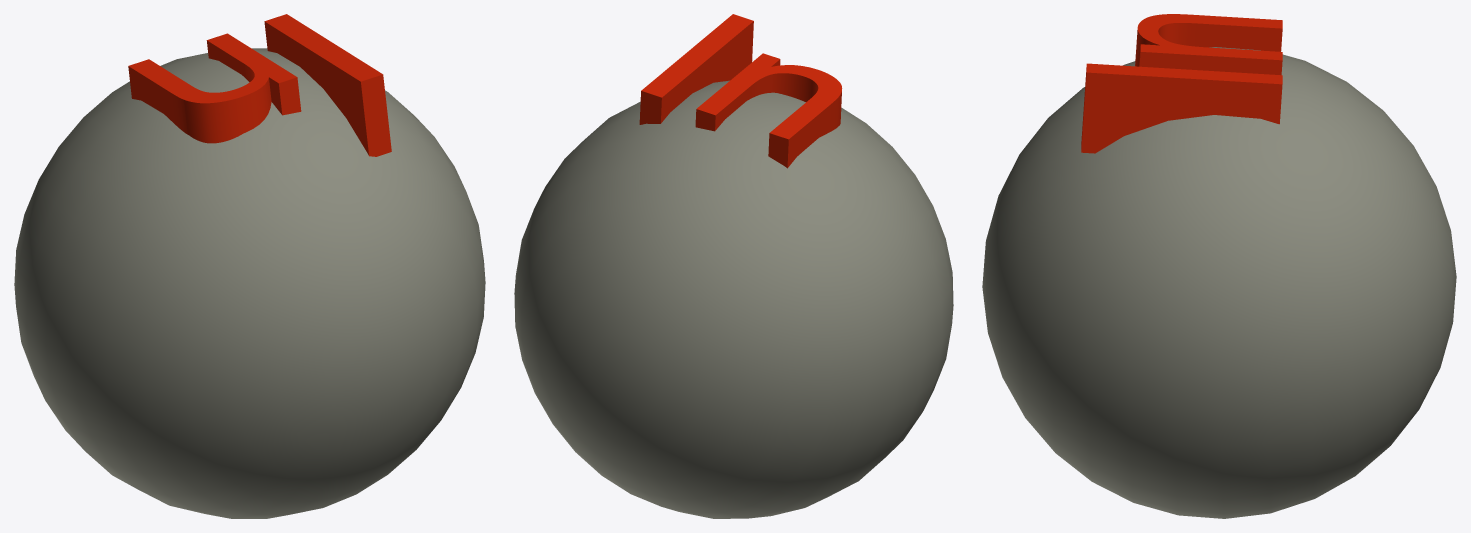
3 views of the same model, side by side, from view 1: azimuth 30°, elevation 25°; view 2: azimuth 150°, elevation 25°; view 3: azimuth 270°, elevation 25° (orthographic). The views are drawn at different scales.
Parts seen in each view (by area): view 1: In; view 2: In; view 3: In.
Boxes of the visible parts, bbox=[...] form: In: bbox=[14, 14, 485, 518]; In: bbox=[514, 14, 953, 518]; In: bbox=[982, 14, 1456, 518].
Bounding box in the file's own units: 38.68 × 41.17 × 38.74.
